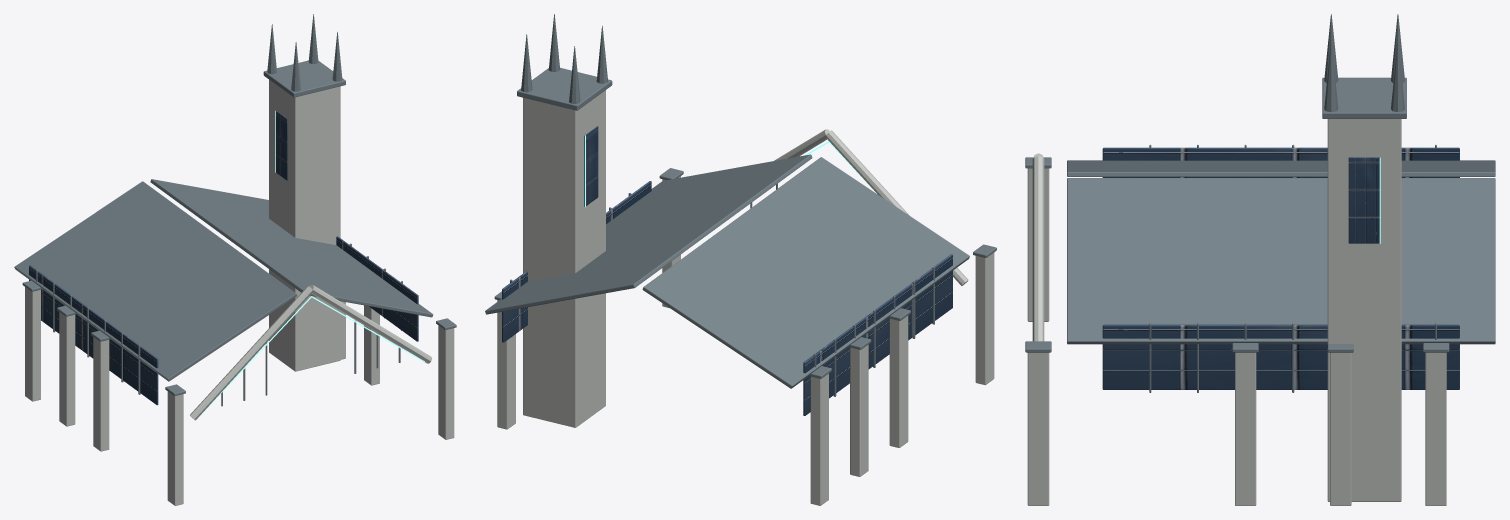
Rendered from serengeti-architecture.glb.
3 views of the same model, side by side, from view 1: azimuth 30°, elevation 25°; view 2: azimuth 150°, elevation 25°; view 3: azimuth 270°, elevation 25° (orthographic). The views are drawn at different scales.
Visible parts, largest first — view 1: Buttress cap, Stepped buttress, Clerestory glazing, Recessed illuminated arch; view 2: Buttress cap, Stepped buttress, Clerestory glazing; view 3: Buttress cap, Stepped buttress, Clerestory glazing.
Boxes of the visible parts, left/top/right/bottom form: Buttress cap: left=14, top=14, right=456, bottom=406; Stepped buttress: left=25, top=80, right=454, bottom=505; Clerestory glazing: left=29, top=111, right=418, bottom=405; Recessed illuminated arch: left=199, top=111, right=424, bottom=416; Buttress cap: left=485, top=14, right=996, bottom=396; Stepped buttress: left=497, top=90, right=994, bottom=505; Clerestory glazing: left=502, top=126, right=952, bottom=415; Buttress cap: left=1025, top=14, right=1495, bottom=392; Stepped buttress: left=1027, top=119, right=1446, bottom=505; Clerestory glazing: left=1102, top=147, right=1459, bottom=389.
Bounding box in the file's own units: 19.1 × 21.25 × 19.75.
Materials: 4 (1 with a texture image).
